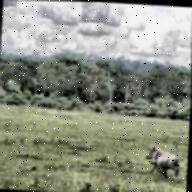boar: (137, 140, 178, 172)
